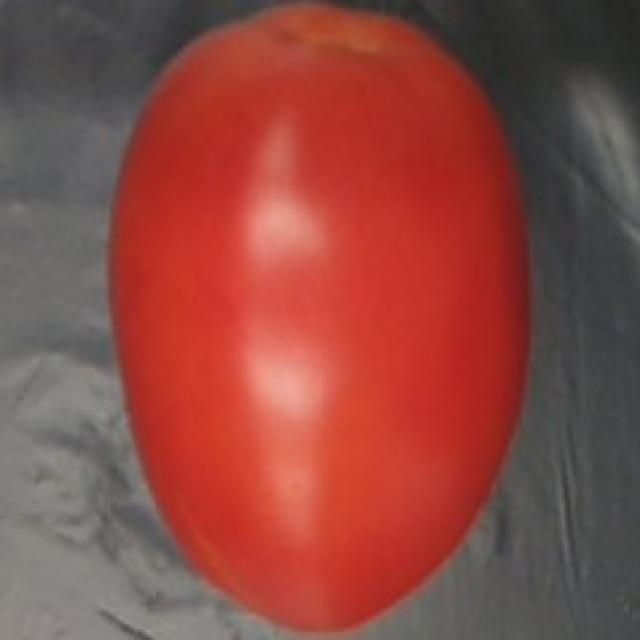ripe tomato: (93, 2, 550, 640)
